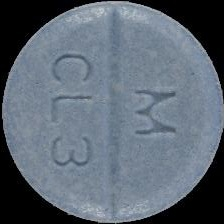0378-1133: (0, 0, 224, 224)
